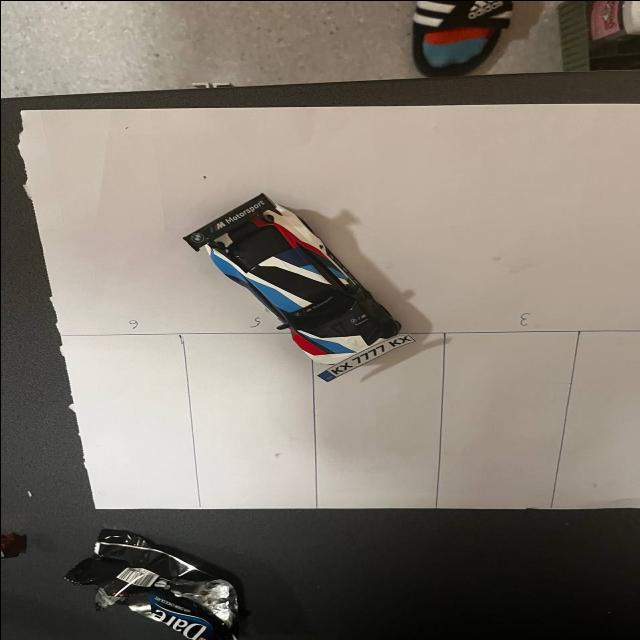cars: (158, 167, 442, 397)
